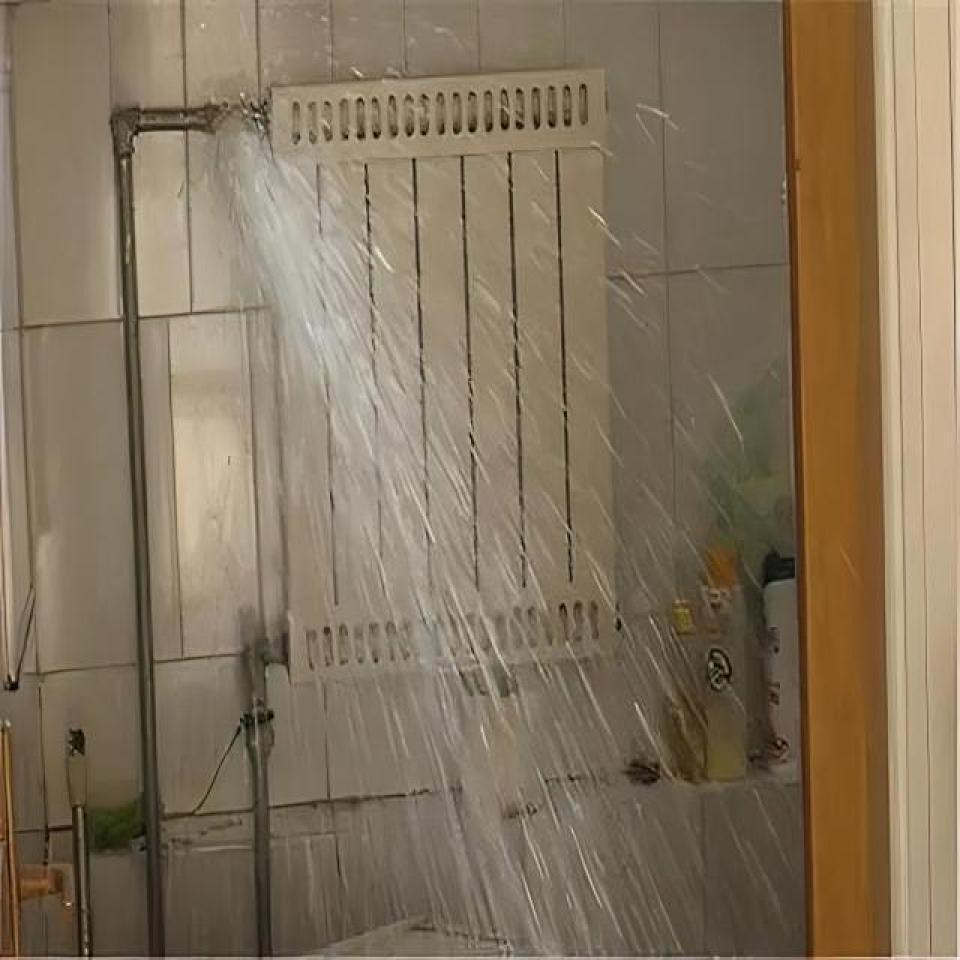pipe burst: (200, 95, 707, 960)
